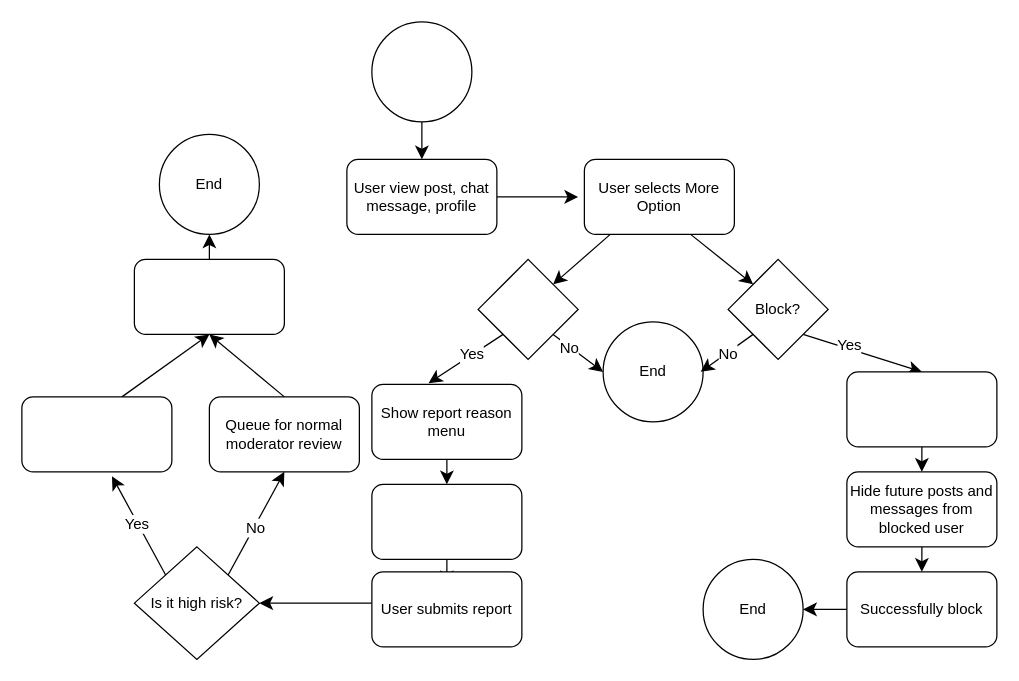
Image size: 1019x681. Some labels were removed from this diagram. Each missing label, with the centre of its shape:
"Hide content immediately from public view" belongs at pixel 96 434.
"Report?" belongs at pixel 527 308.
"Start" belongs at pixel 421 71.
"Successfully report" belongs at pixel 208 296.
"System blocks selected user" belongs at pixel 921 409.
"User selects reason and optional note" belongs at pixel 446 521.
